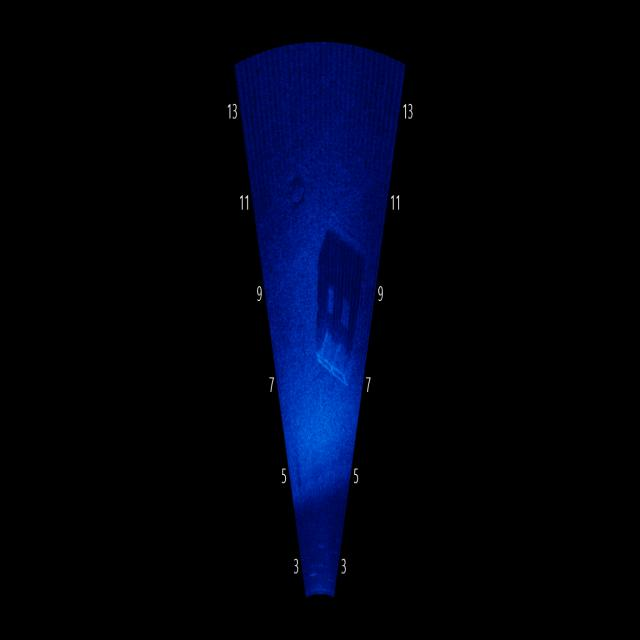circle: (286, 165, 310, 212)
square: (308, 318, 360, 398)
